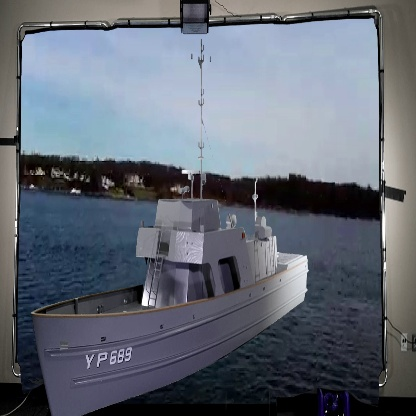YP689: (33, 34, 307, 414)
